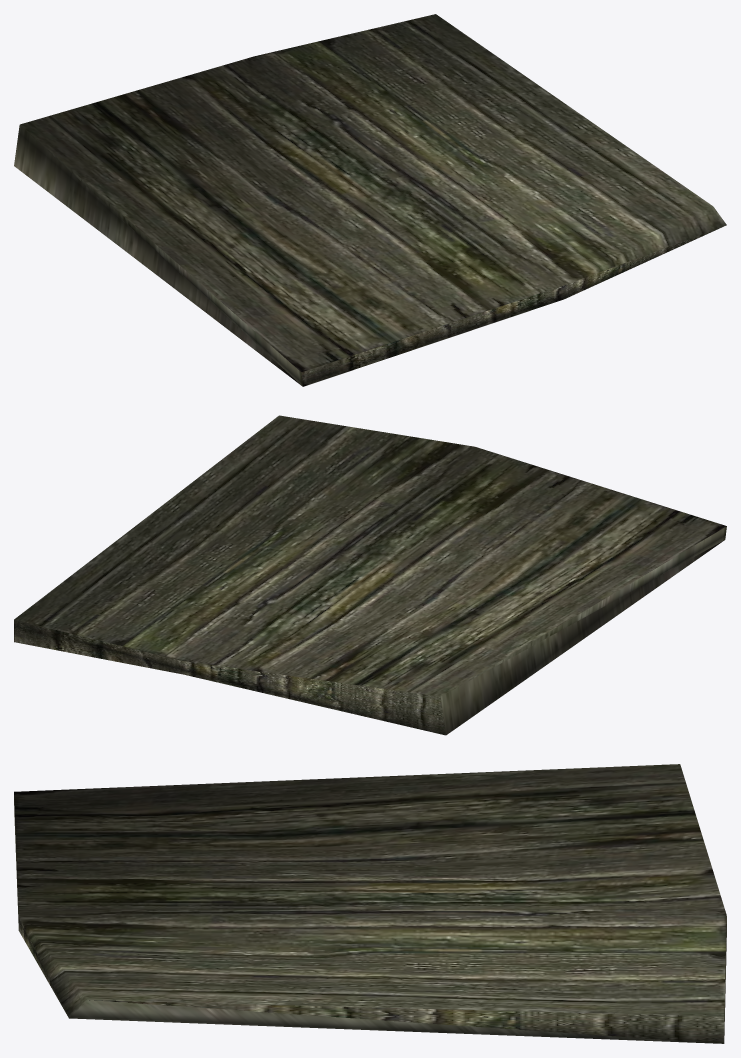
Rendered from MIN_LOB_PLANKS_2X4M.glb.
3 renders of one model, top to bottom at view 1: azimuth 30°, elevation 25°; view 2: azimuth 150°, elevation 25°; view 3: azimuth 270°, elevation 25°, orthographic. The views are drawn at different scales.
Parts seen in each view (by area): view 1: Mesh; view 2: Mesh; view 3: Mesh.
Boxes of the visible parts, bbox=[...] form: Mesh: bbox=[14, 14, 726, 386]; Mesh: bbox=[14, 415, 726, 735]; Mesh: bbox=[14, 764, 726, 1043].
Size of the model in its own units: 3.95 by 0.4076 by 4.78.
Materials: 1 (1 with a texture image).
